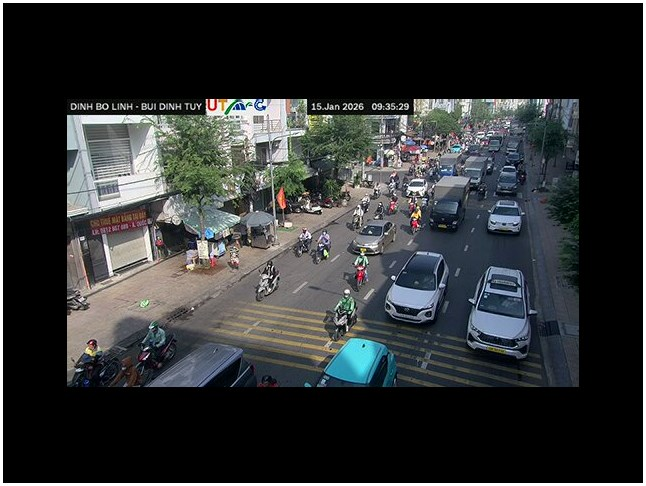car: (464, 264, 536, 359), (141, 341, 256, 388), (384, 250, 450, 325), (308, 336, 398, 387), (352, 219, 395, 253), (487, 200, 524, 237), (430, 199, 464, 233), (496, 167, 519, 195), (405, 178, 428, 196)
motorbike: (256, 261, 281, 301)
